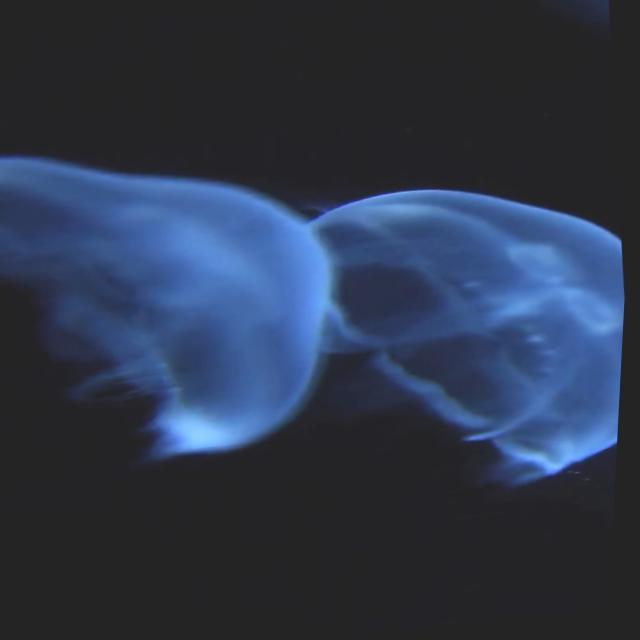Moon-jellyfish: (0, 152, 336, 466), (306, 186, 628, 485)
